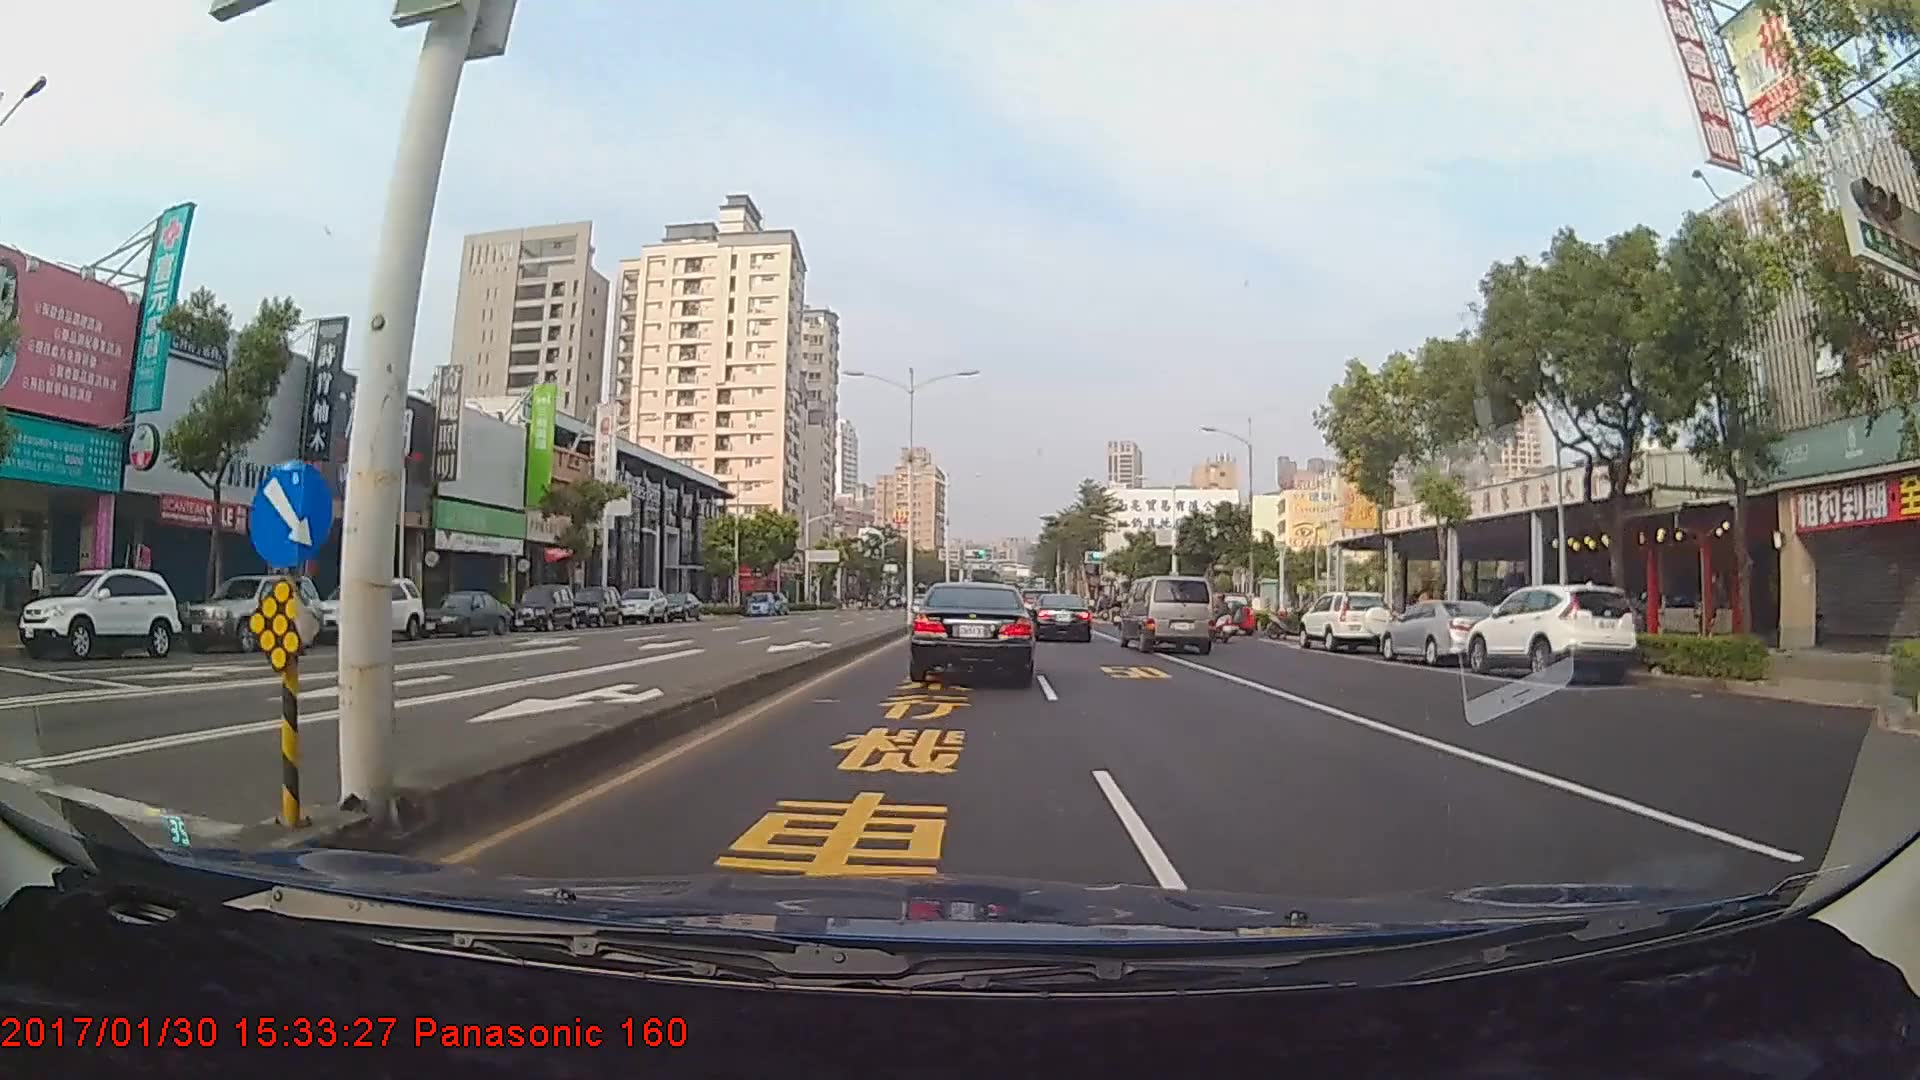pedestrian: (28, 554, 50, 627)
rider: (1211, 591, 1240, 642)
vehicle: (1465, 581, 1640, 683), (16, 568, 181, 657), (911, 580, 1034, 683), (183, 572, 320, 652), (1378, 596, 1491, 667), (318, 576, 424, 644), (1121, 576, 1213, 654), (1299, 590, 1392, 652), (419, 589, 512, 636), (1026, 592, 1093, 643), (511, 584, 578, 632), (567, 583, 622, 627), (617, 585, 671, 624), (655, 588, 702, 619), (744, 586, 774, 613)
